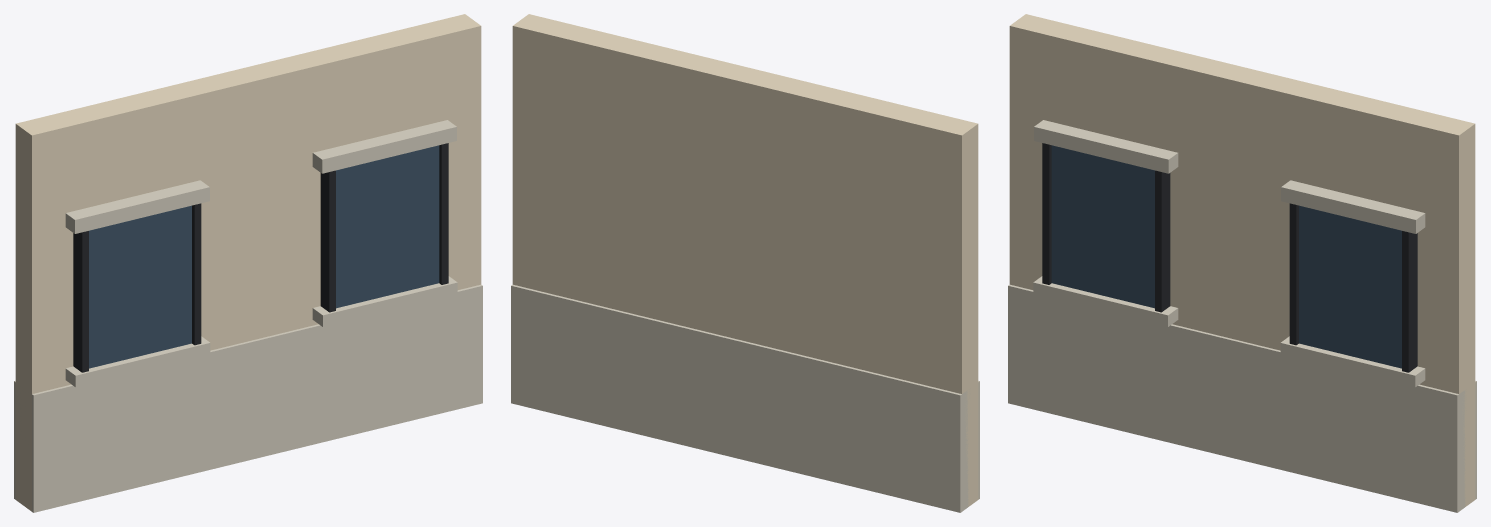
File: arch.bay-window.glb
3 renders of one model, left to right at view 1: azimuth 30°, elevation 25°; view 2: azimuth 150°, elevation 25°; view 3: azimuth 330°, elevation 25°, orthographic.
Parts seen in each view (by area): view 1: arch.bay-window; view 2: arch.bay-window; view 3: arch.bay-window.
Part boxes in pixels (x1,y1,x2,y2): arch.bay-window: (14, 14, 482, 512); arch.bay-window: (511, 14, 979, 512); arch.bay-window: (1008, 14, 1476, 512).
Bounding box in the file's own units: 4 × 3.2 × 0.43.
